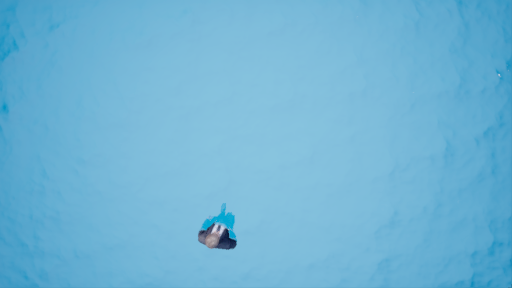person: (194, 202, 247, 250)
